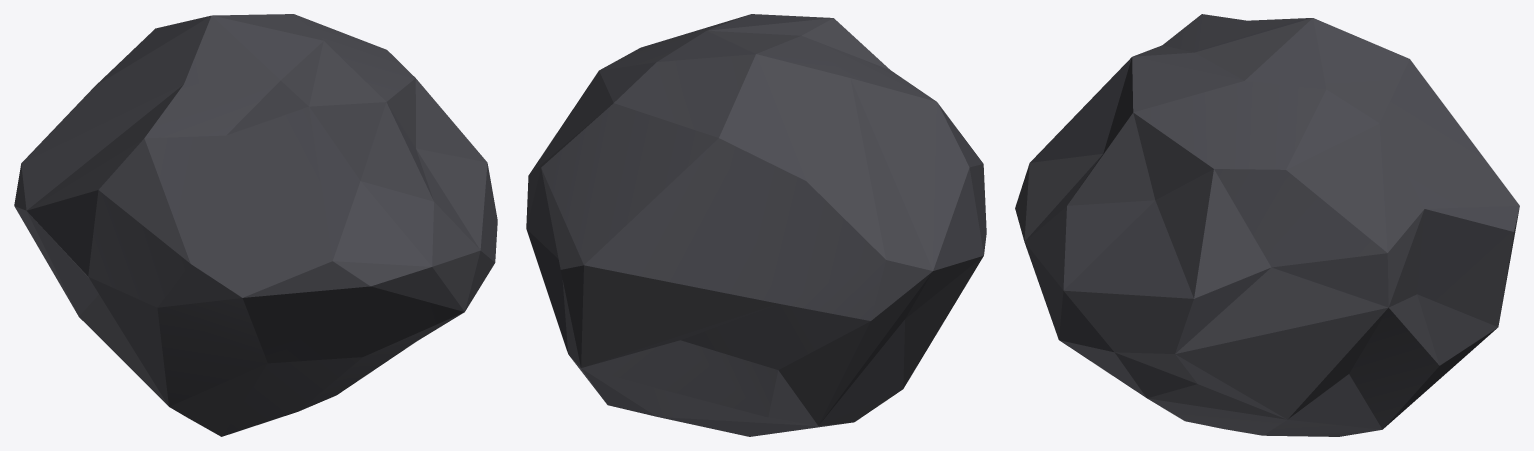
The model's file is Environment_Rock3.fbx.
The picture shows the model from 3 angles, left to right: view 1: azimuth 30°, elevation 25°; view 2: azimuth 150°, elevation 25°; view 3: azimuth 270°, elevation 25°; orthographic projection. The views are drawn at different scales.
Visible parts, largest first — view 1: Rock003; view 2: Rock003; view 3: Rock003.
Part boxes in pixels (x1=…): Rock003: x1=14, y1=14, x2=497, y2=436; Rock003: x1=526, y1=14, x2=986, y2=436; Rock003: x1=1015, y1=14, x2=1519, y2=436.
Size of the model in its own units: 258 by 269 by 230.
